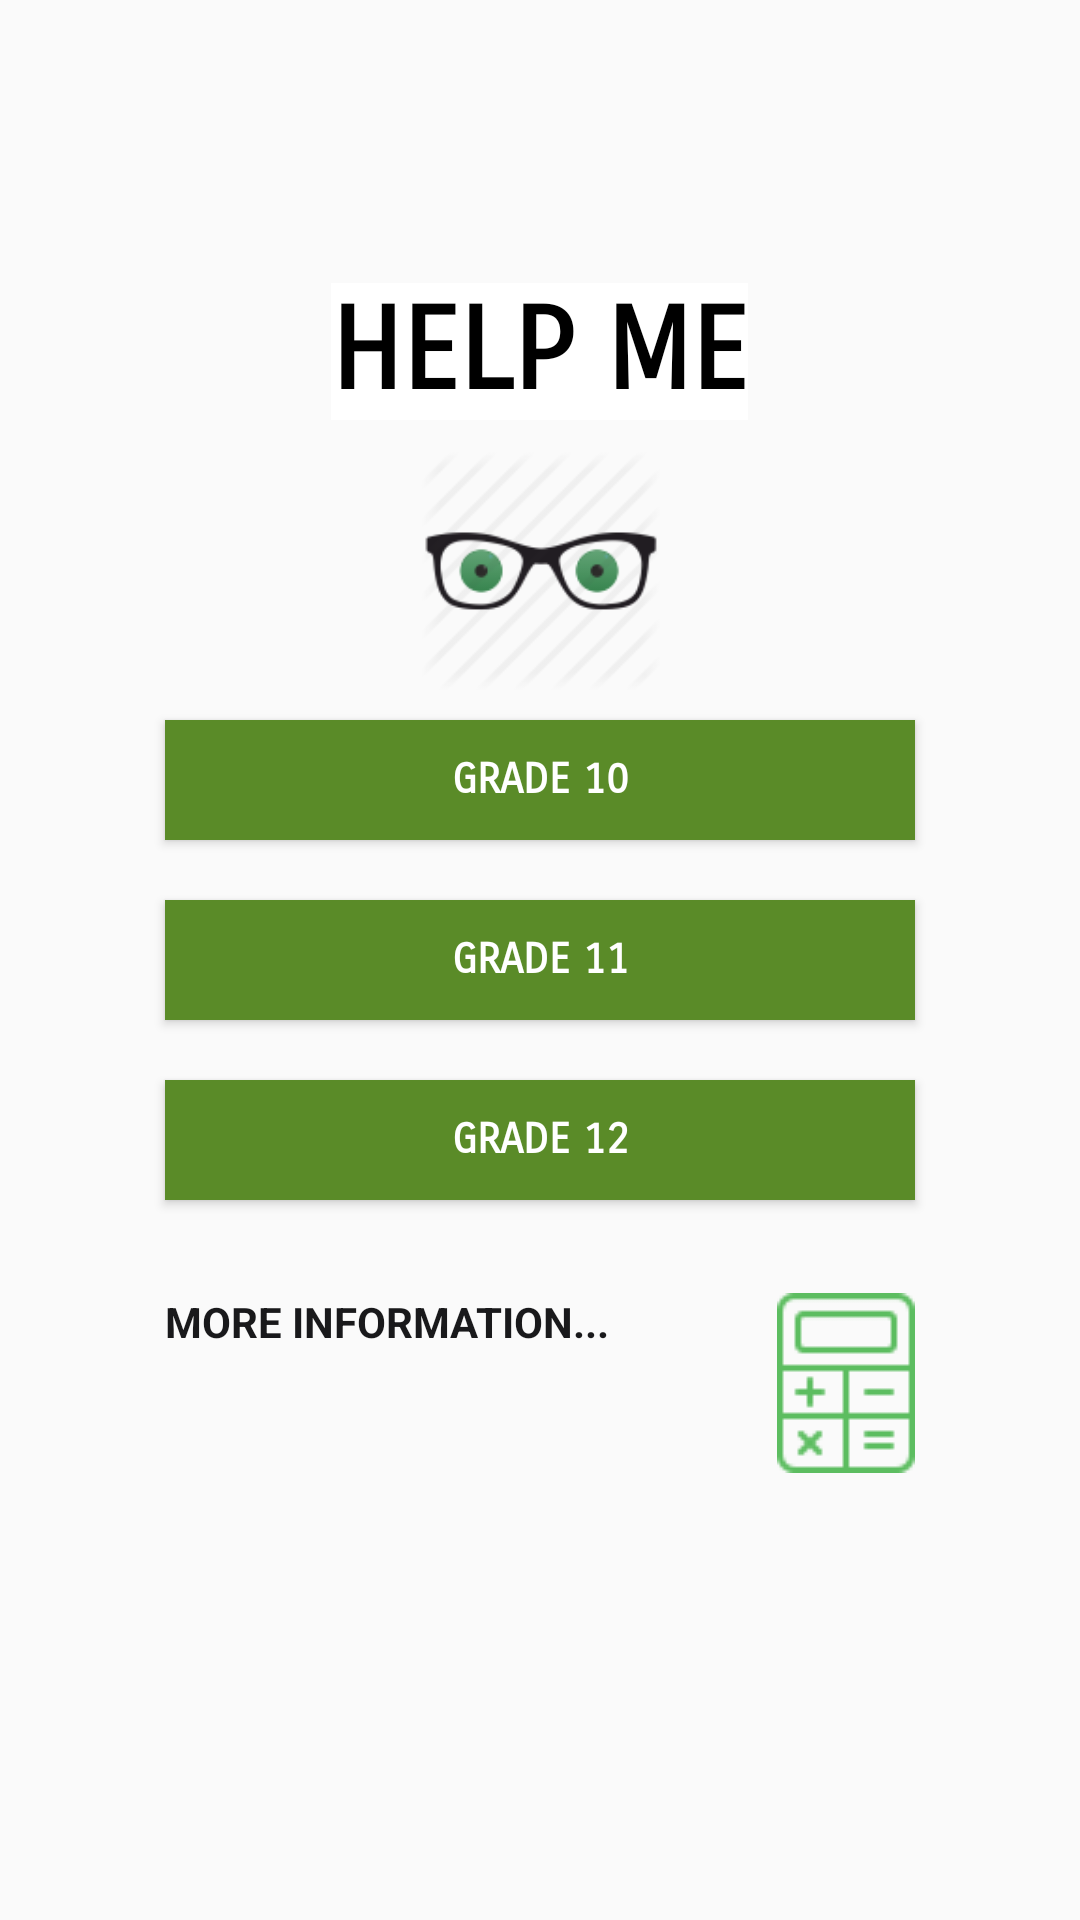

Locate icon controls on the screen. Image size 1080px x 1920px, boxes as (x1, y1, x2, y2).
calc: (777, 1293, 915, 1473)
eyes: (425, 532, 657, 610)
